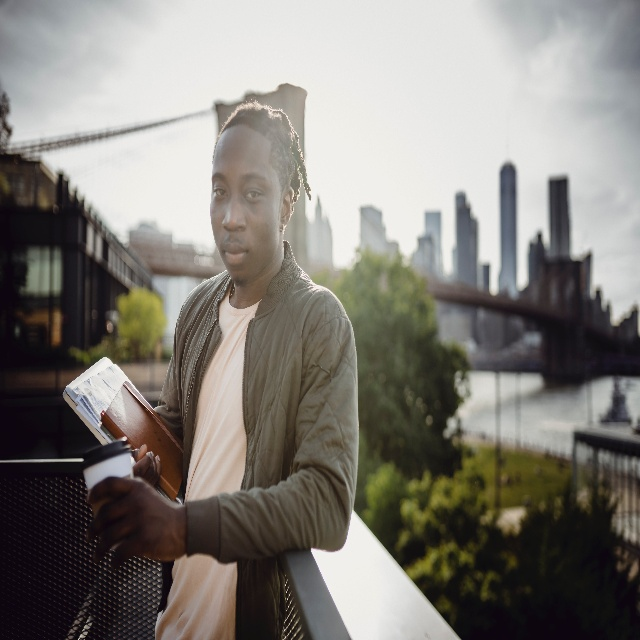Sin_guantes: (85, 479, 184, 567), (134, 445, 160, 486)
